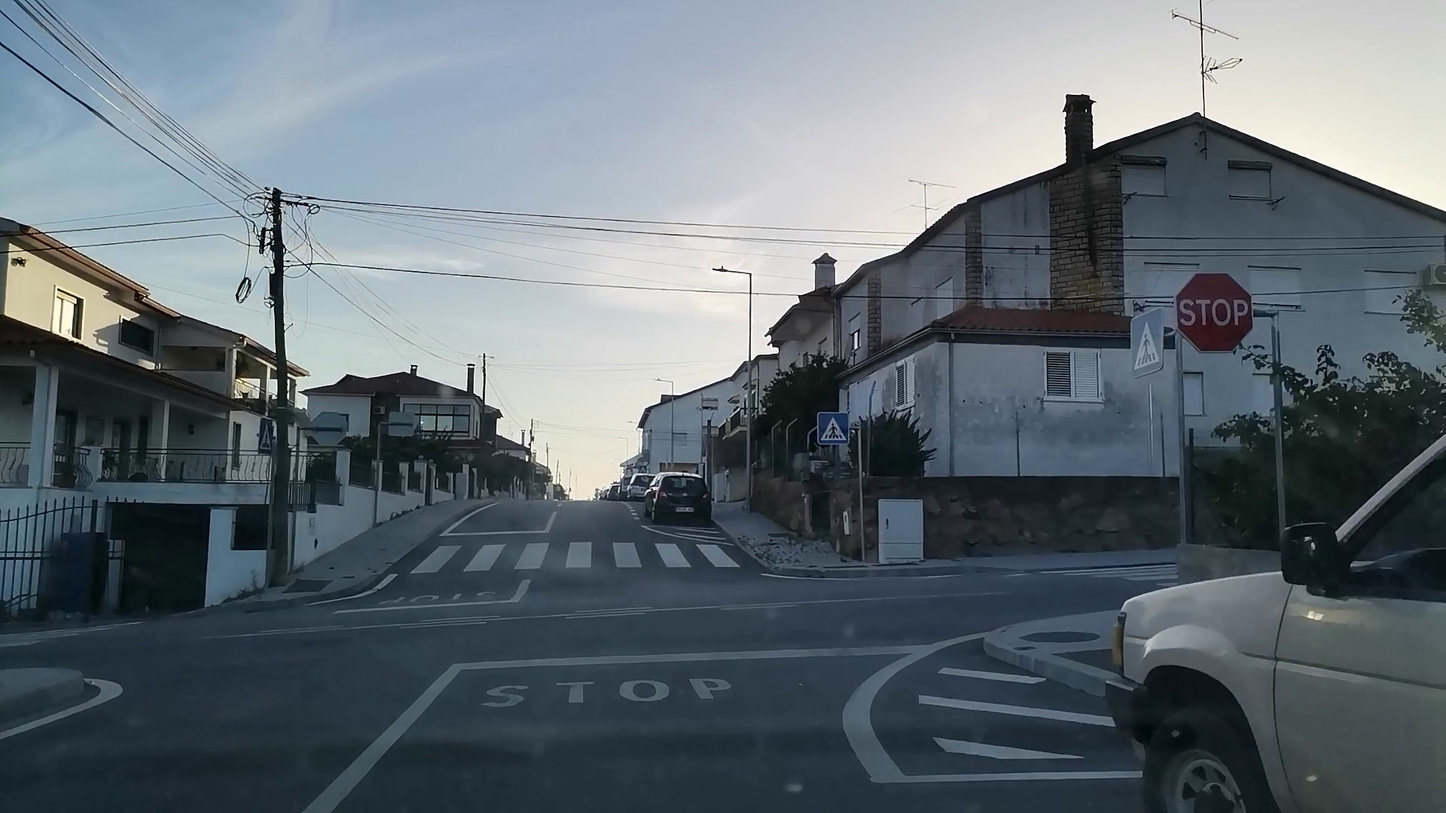Stairs: (408, 539, 739, 573)
